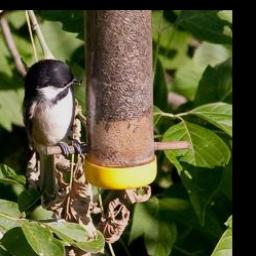Swallow: (21, 55, 86, 162)
